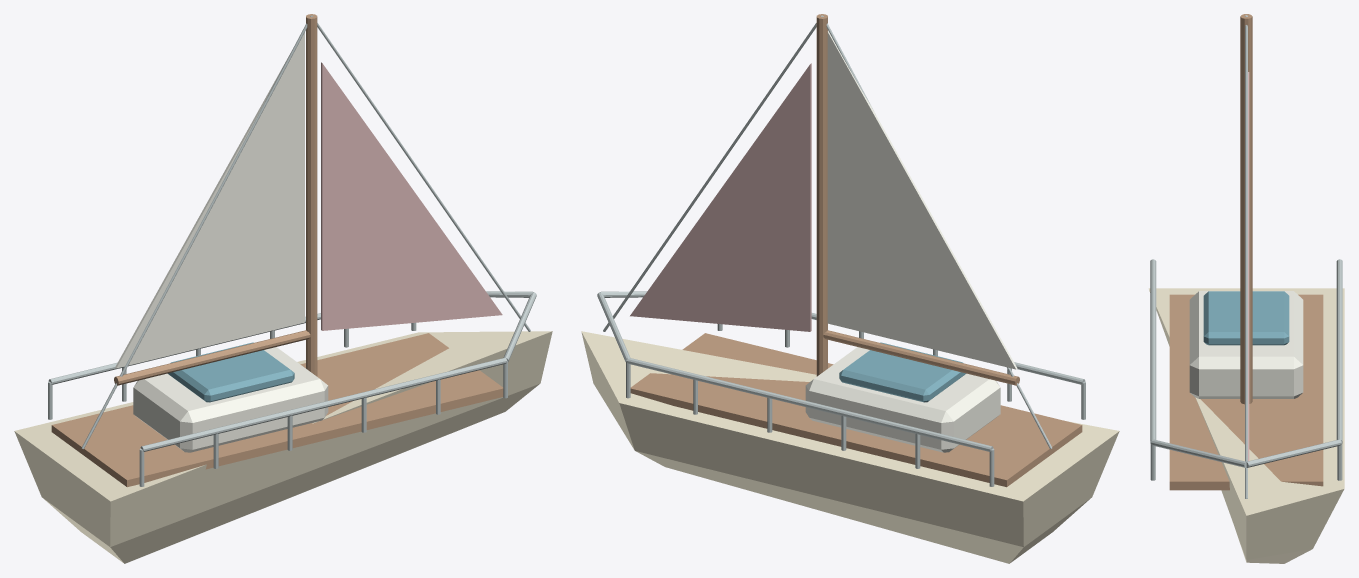
File: boat-sail.glb
3 renders of one model, left to right at view 1: azimuth 30°, elevation 25°; view 2: azimuth 150°, elevation 25°; view 3: azimuth 270°, elevation 25°, orthographic.
Parts seen in each view (by area): view 1: boat-sail_wood, boat-sail_cream; view 2: boat-sail_wood, boat-sail_cream; view 3: boat-sail_wood, boat-sail_cream.
Part boxes in pixels (<box>): boat-sail_wood: <box>48,14,536,487</box>; boat-sail_cream: <box>14,62,552,563</box>; boat-sail_wood: <box>597,14,1085,487</box>; boat-sail_cream: <box>581,63,1119,563</box>; boat-sail_wood: <box>1150,14,1342,498</box>; boat-sail_cream: <box>1148,72,1344,563</box>.
Bounding box in the file's own units: 3.64 × 3.41 × 1.24.
2 materials, 2 textured.
